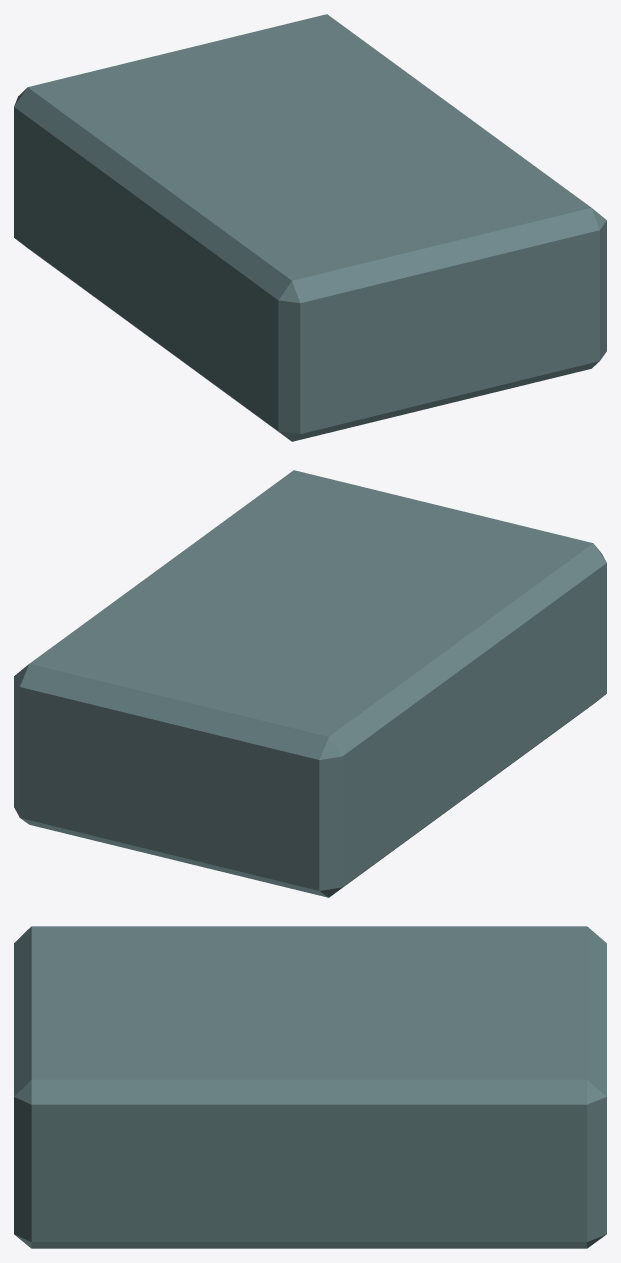
The model's file is SM_LP_RefinedMetal_4.fbx.
3 views of the same model, one above another, from view 1: azimuth 30°, elevation 25°; view 2: azimuth 150°, elevation 25°; view 3: azimuth 270°, elevation 25° (orthographic). The views are drawn at different scales.
Visible parts, largest first — view 1: SM_LP_RefinedMetal_4; view 2: SM_LP_RefinedMetal_4; view 3: SM_LP_RefinedMetal_4.
Part boxes in pixels (x1,y1,x2,y2): SM_LP_RefinedMetal_4: [14, 14, 606, 441]; SM_LP_RefinedMetal_4: [14, 470, 606, 897]; SM_LP_RefinedMetal_4: [14, 926, 606, 1248].
Size of the model in its own units: 0.2998 by 0.1404 by 0.4463.
